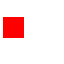square: (3, 17, 23, 37)
